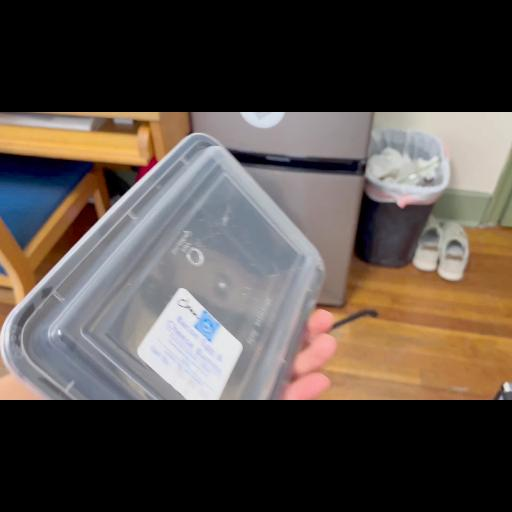rigid_plastic_container: (6, 134, 320, 400)
